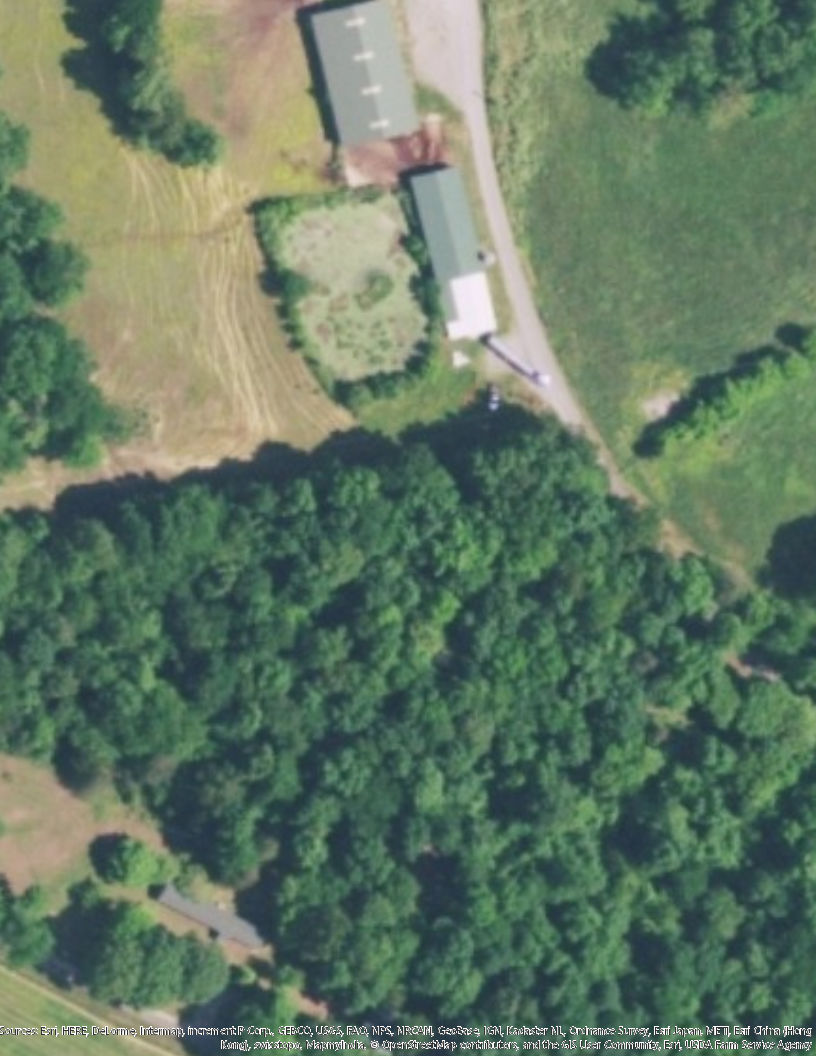cafo: (299, 1, 424, 150), (400, 159, 499, 345)
